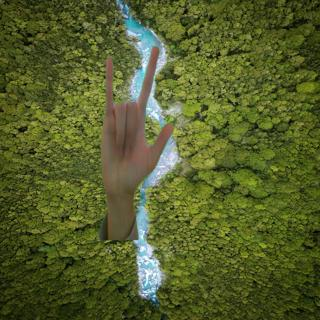ILY: (97, 43, 178, 199)
